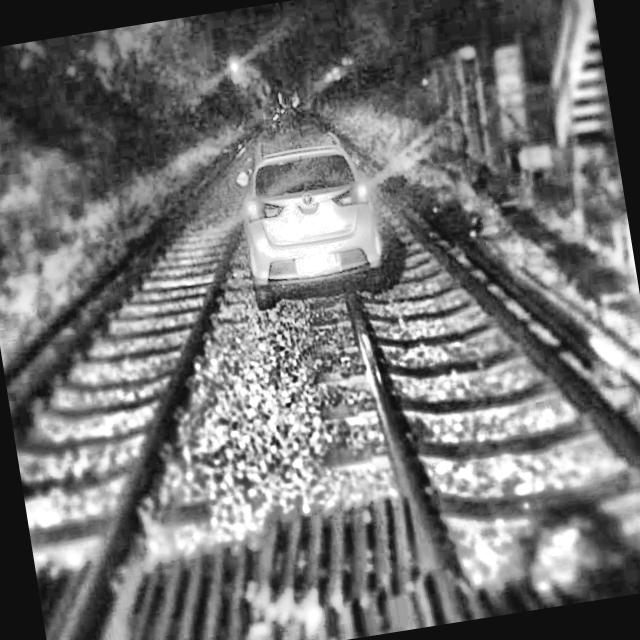Car: (206, 98, 404, 320)
